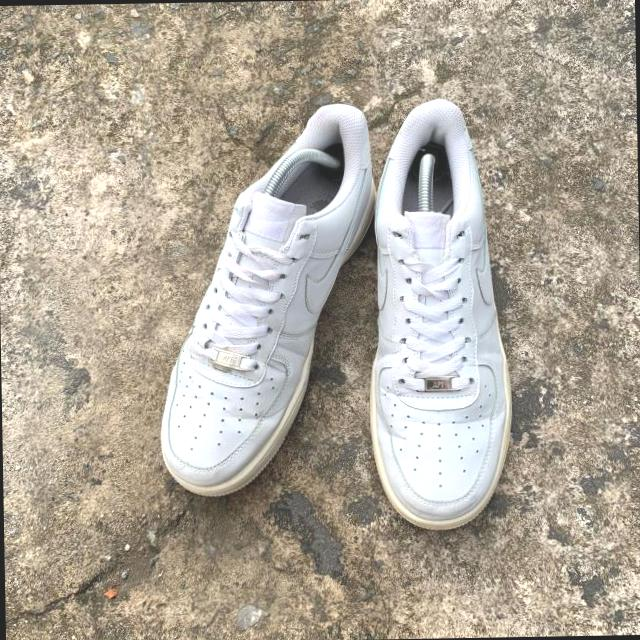nike_fake_airforce: (152, 99, 382, 497), (364, 99, 518, 535)
